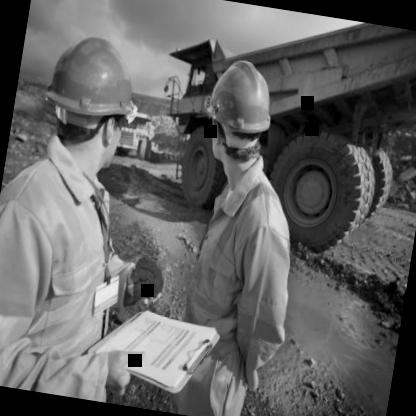helmet: (25, 18, 153, 178), (190, 50, 285, 178)
